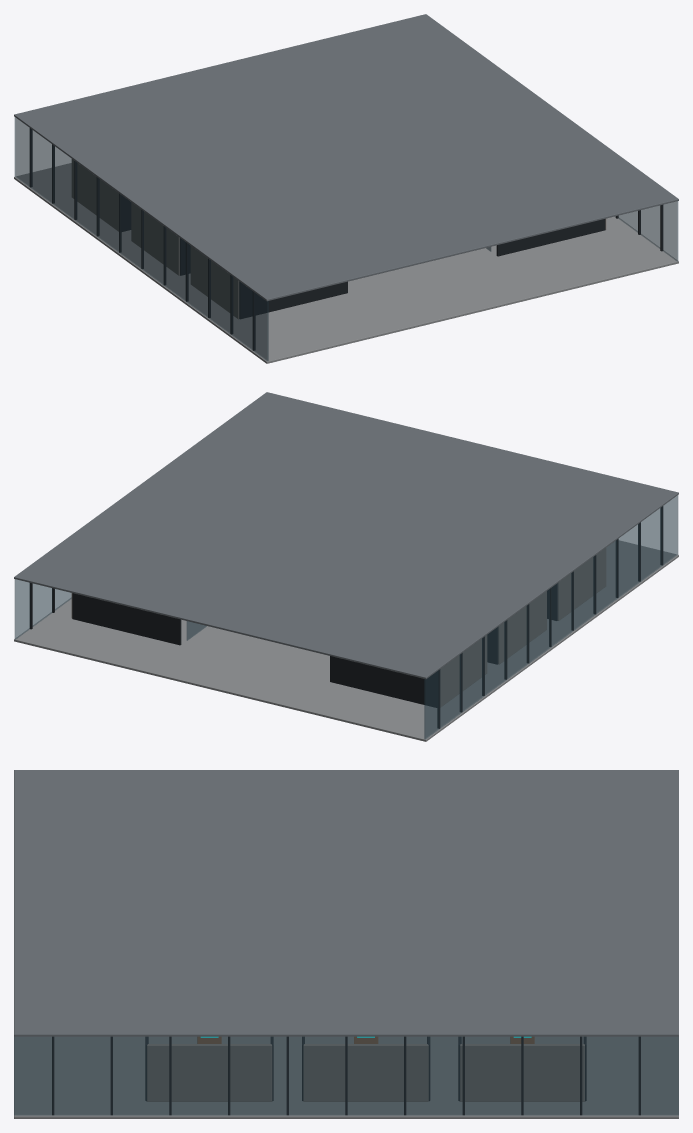
File: floor45.glb
The picture shows the model from 3 angles, top to bottom: view 1: azimuth 30°, elevation 25°; view 2: azimuth 150°, elevation 25°; view 3: azimuth 270°, elevation 25°; orthographic projection. The views are drawn at different scales.
Visible parts, largest first — view 1: BATCH_01_MAT_Concrete, BATCH_05_MAT_Stone, BATCH_02_MAT_Glass, BATCH_00_MAT_BlackMetal, BATCH_03_MAT_Plaster; view 2: BATCH_01_MAT_Concrete, BATCH_05_MAT_Stone, BATCH_02_MAT_Glass, BATCH_00_MAT_BlackMetal, BATCH_03_MAT_Plaster; view 3: BATCH_01_MAT_Concrete, BATCH_02_MAT_Glass, BATCH_05_MAT_Stone, BATCH_03_MAT_Plaster, BATCH_00_MAT_BlackMetal.
Boxes of the visible parts, left/top/right/bottom form: BATCH_01_MAT_Concrete: left=14, top=14, right=678, bottom=301; BATCH_05_MAT_Stone: left=14, top=163, right=678, bottom=363; BATCH_02_MAT_Glass: left=14, top=117, right=678, bottom=361; BATCH_00_MAT_BlackMetal: left=29, top=128, right=663, bottom=350; BATCH_03_MAT_Plaster: left=72, top=159, right=606, bottom=318; BATCH_01_MAT_Concrete: left=14, top=392, right=678, bottom=679; BATCH_05_MAT_Stone: left=14, top=540, right=678, bottom=741; BATCH_02_MAT_Glass: left=14, top=495, right=678, bottom=739; BATCH_00_MAT_BlackMetal: left=29, top=506, right=663, bottom=728; BATCH_03_MAT_Plaster: left=71, top=548, right=605, bottom=707; BATCH_01_MAT_Concrete: left=14, top=770, right=678, bottom=1036; BATCH_02_MAT_Glass: left=14, top=1036, right=678, bottom=1115; BATCH_05_MAT_Stone: left=14, top=1037, right=678, bottom=1118; BATCH_03_MAT_Plaster: left=147, top=1044, right=584, bottom=1101; BATCH_00_MAT_BlackMetal: left=52, top=1036, right=640, bottom=1115.
Bounding box in the file's own units: 32 × 4.78 × 34.
